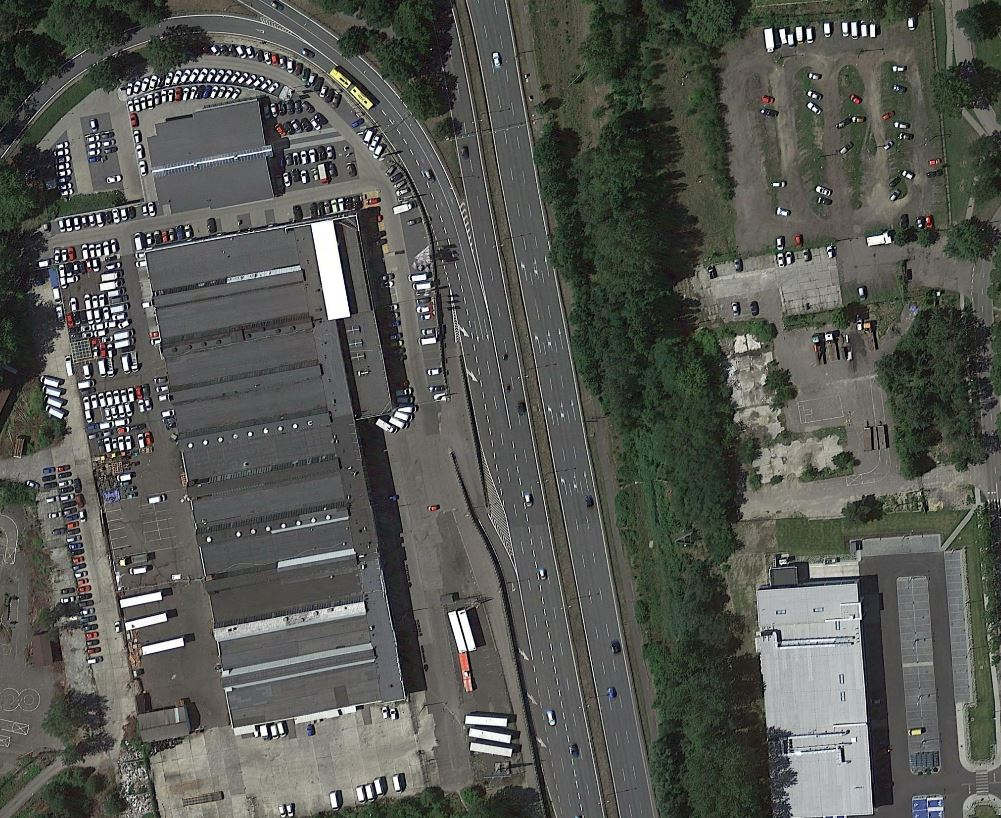shopping_center: (135, 212, 413, 740), (752, 550, 878, 818), (138, 87, 277, 218)
